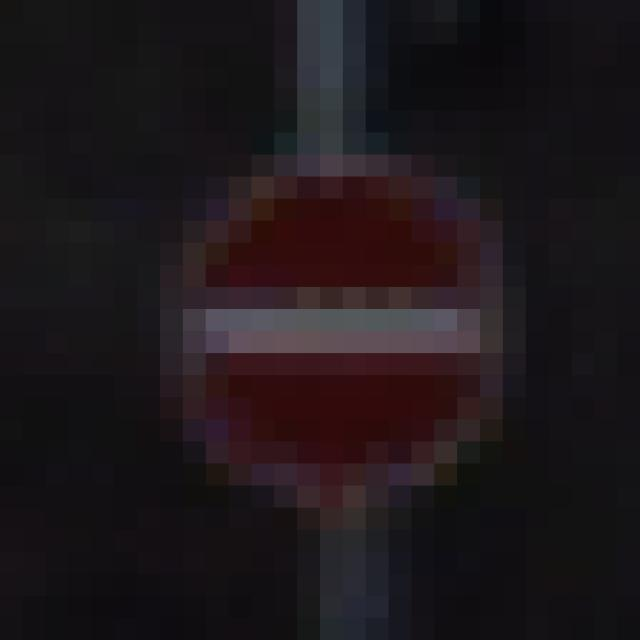No Entry: (138, 111, 527, 531)
